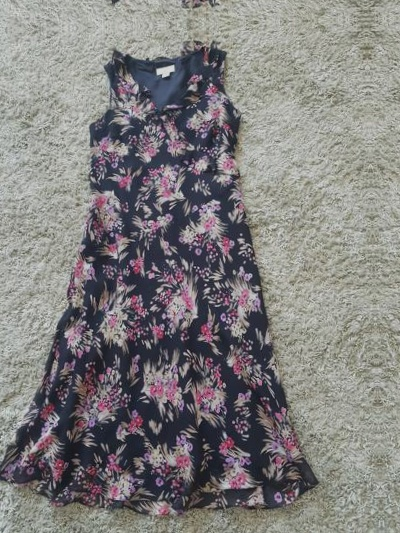Dress: (0, 34, 355, 519), (0, 0, 340, 16), (393, 22, 400, 507), (378, 0, 400, 3)
